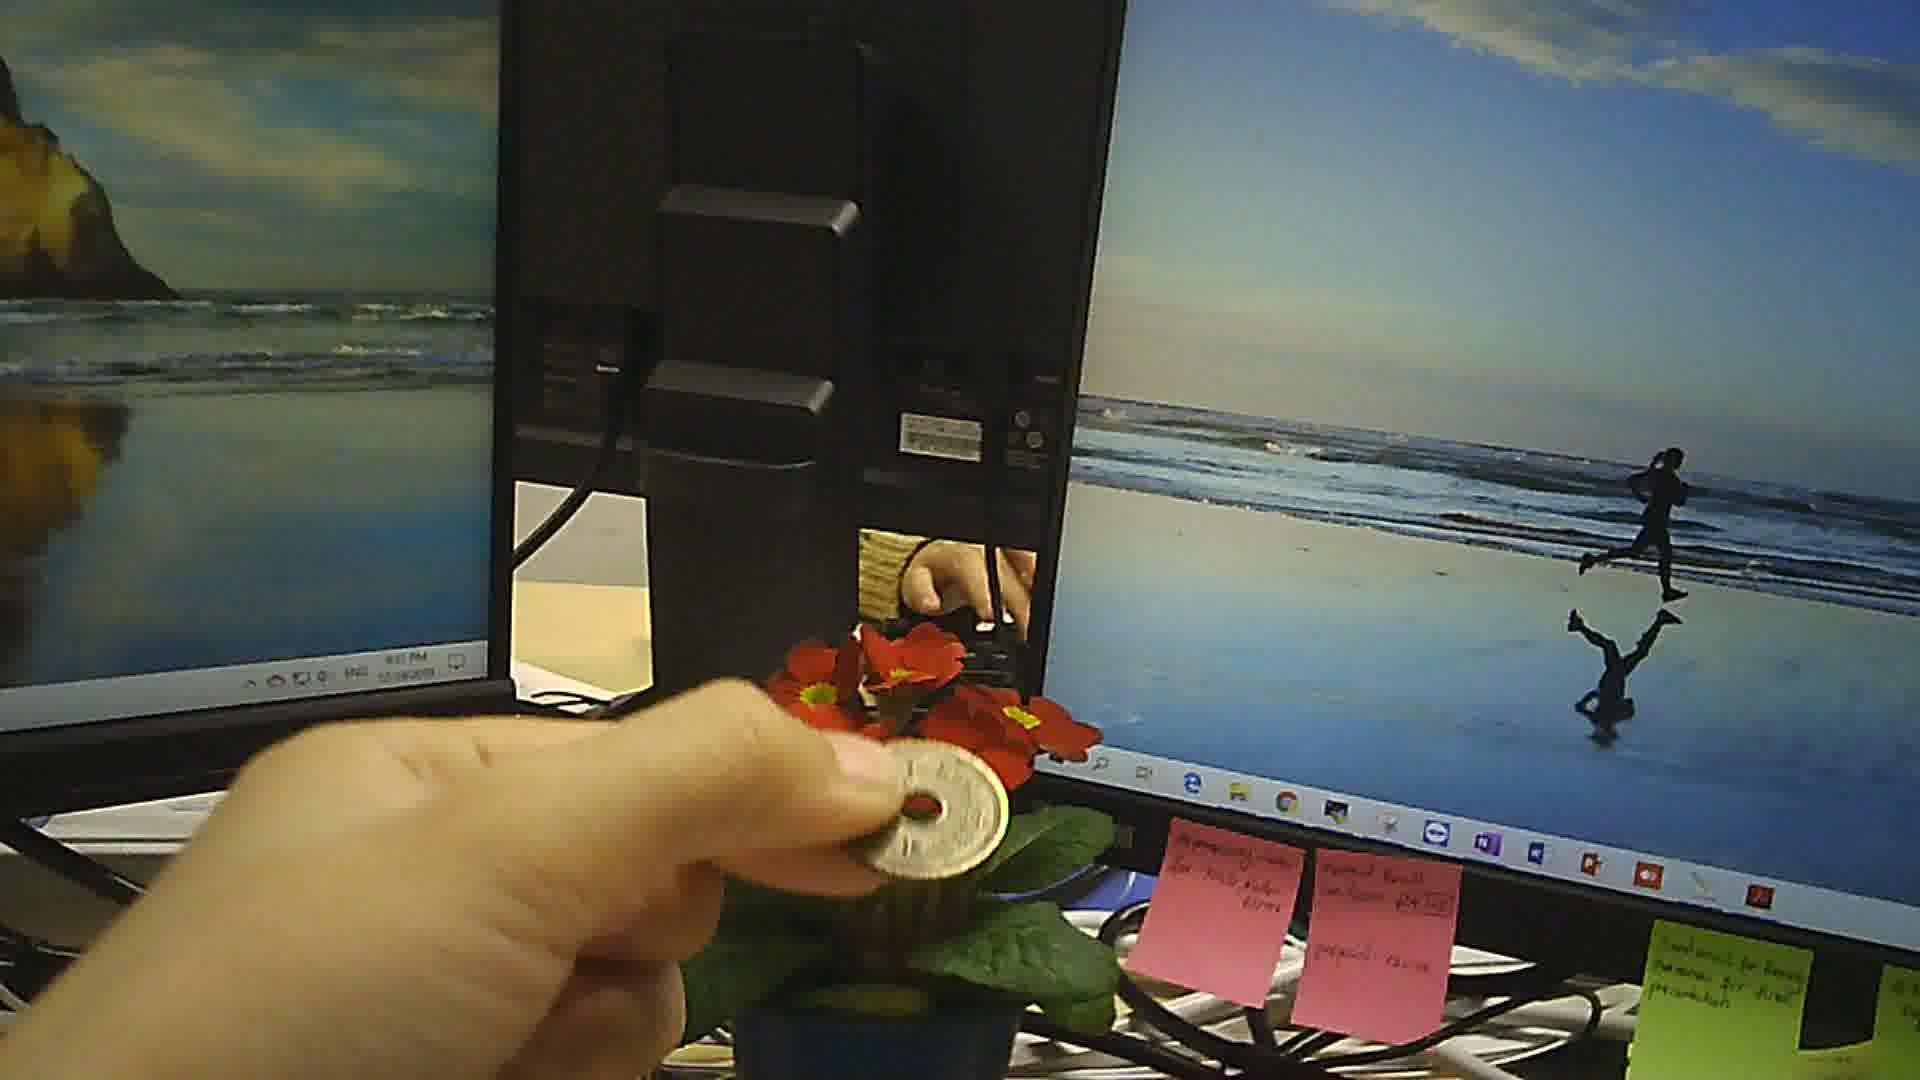5 Yen: (841, 724, 1006, 887)
